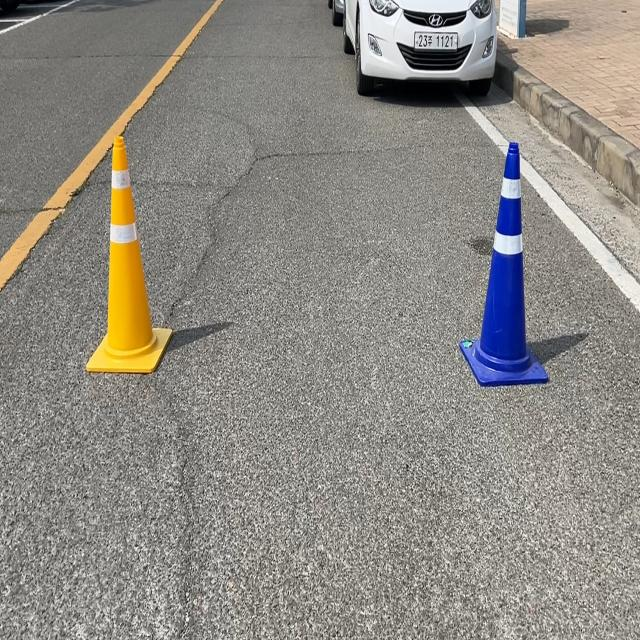b_rub: (461, 141, 549, 385)
y_rub: (86, 135, 172, 372)
